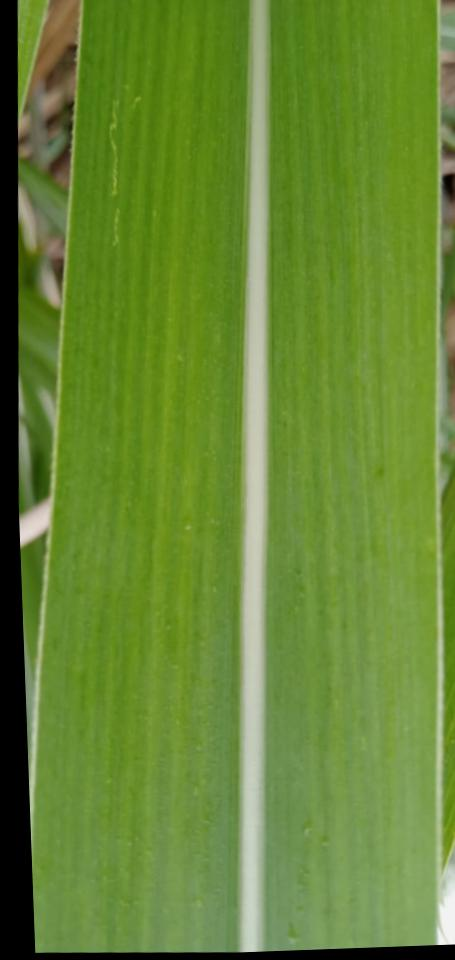Healthy: (30, 0, 439, 952), (439, 455, 455, 881), (17, 0, 49, 113)
